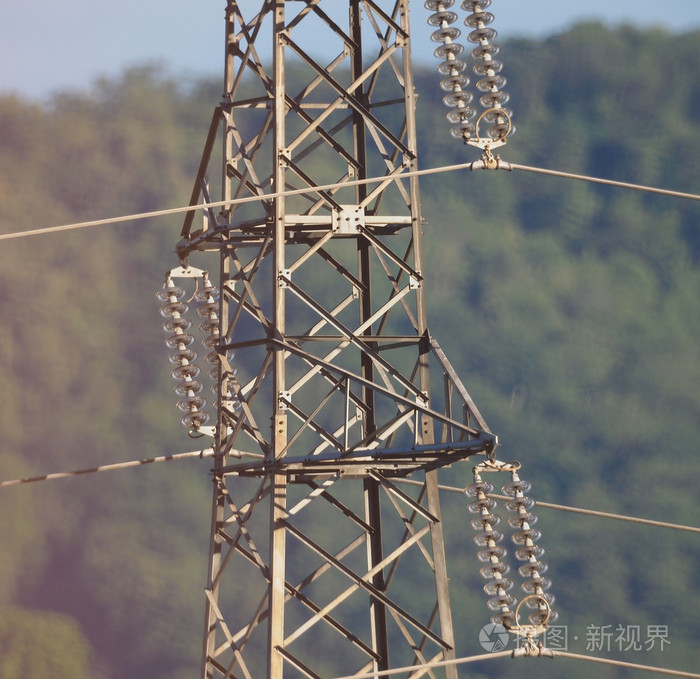insulator: (467, 477, 557, 630), (429, 1, 516, 141), (159, 281, 238, 433)
